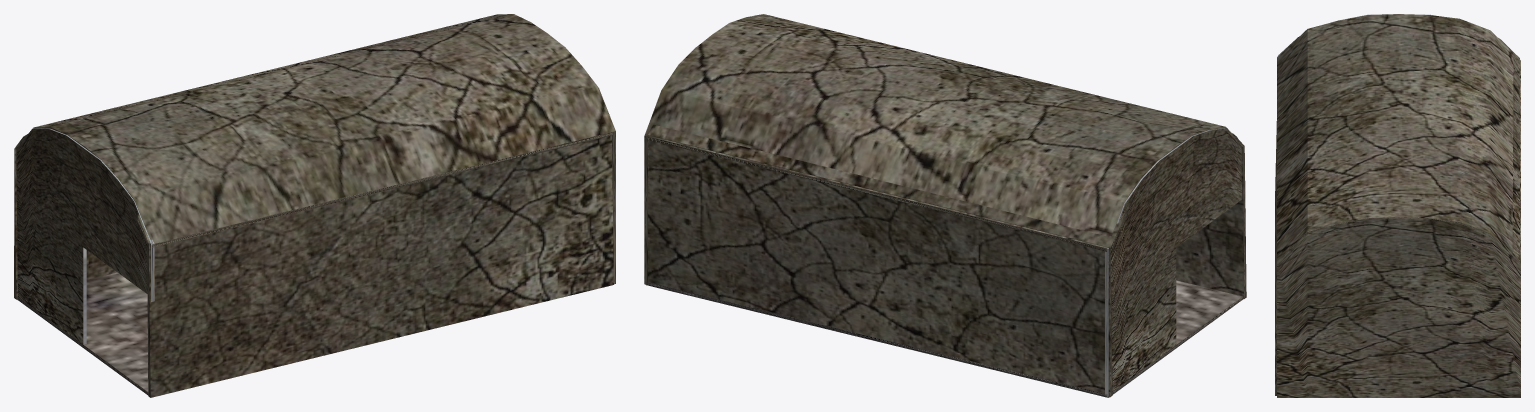
The model's file is warehouse.fbx.
3 views of the same model, side by side, from view 1: azimuth 30°, elevation 25°; view 2: azimuth 150°, elevation 25°; view 3: azimuth 270°, elevation 25° (orthographic). The views are drawn at different scales.
Parts seen in each view (by area): view 1: Cube.005, Cube.001, Cube.002, Cube, Cube.006, Cube.003; view 2: Cube.006, Cube.001, Cube.002, Cube.005, Cube, Cube.003; view 3: Cube.001, Cube.003, Cube.006, Cube.005.
Part boxes in pixels (bbox=[...]): Cube.005: bbox=[137, 135, 613, 397]; Cube.001: bbox=[33, 14, 615, 247]; Cube.002: bbox=[16, 128, 154, 344]; Cube: bbox=[17, 272, 614, 395]; Cube.006: bbox=[14, 134, 117, 299]; Cube.003: bbox=[565, 47, 615, 283]; Cube.006: bbox=[648, 124, 1123, 397]; Cube.001: bbox=[644, 14, 1226, 251]; Cube.002: bbox=[1105, 127, 1241, 397]; Cube.005: bbox=[1176, 133, 1246, 299]; Cube: bbox=[646, 280, 1242, 397]; Cube.003: bbox=[644, 47, 695, 284]; Cube.001: bbox=[1277, 14, 1520, 263]; Cube.003: bbox=[1277, 218, 1520, 397]; Cube.006: bbox=[1498, 38, 1519, 261]; Cube.005: bbox=[1275, 37, 1298, 395].
Size of the model in its own units: 1731 by 711 by 875.
